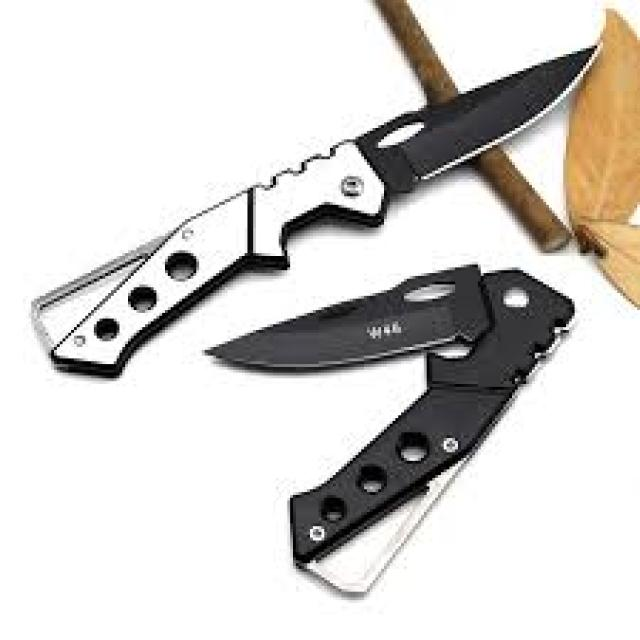Knife: (31, 46, 597, 373)
